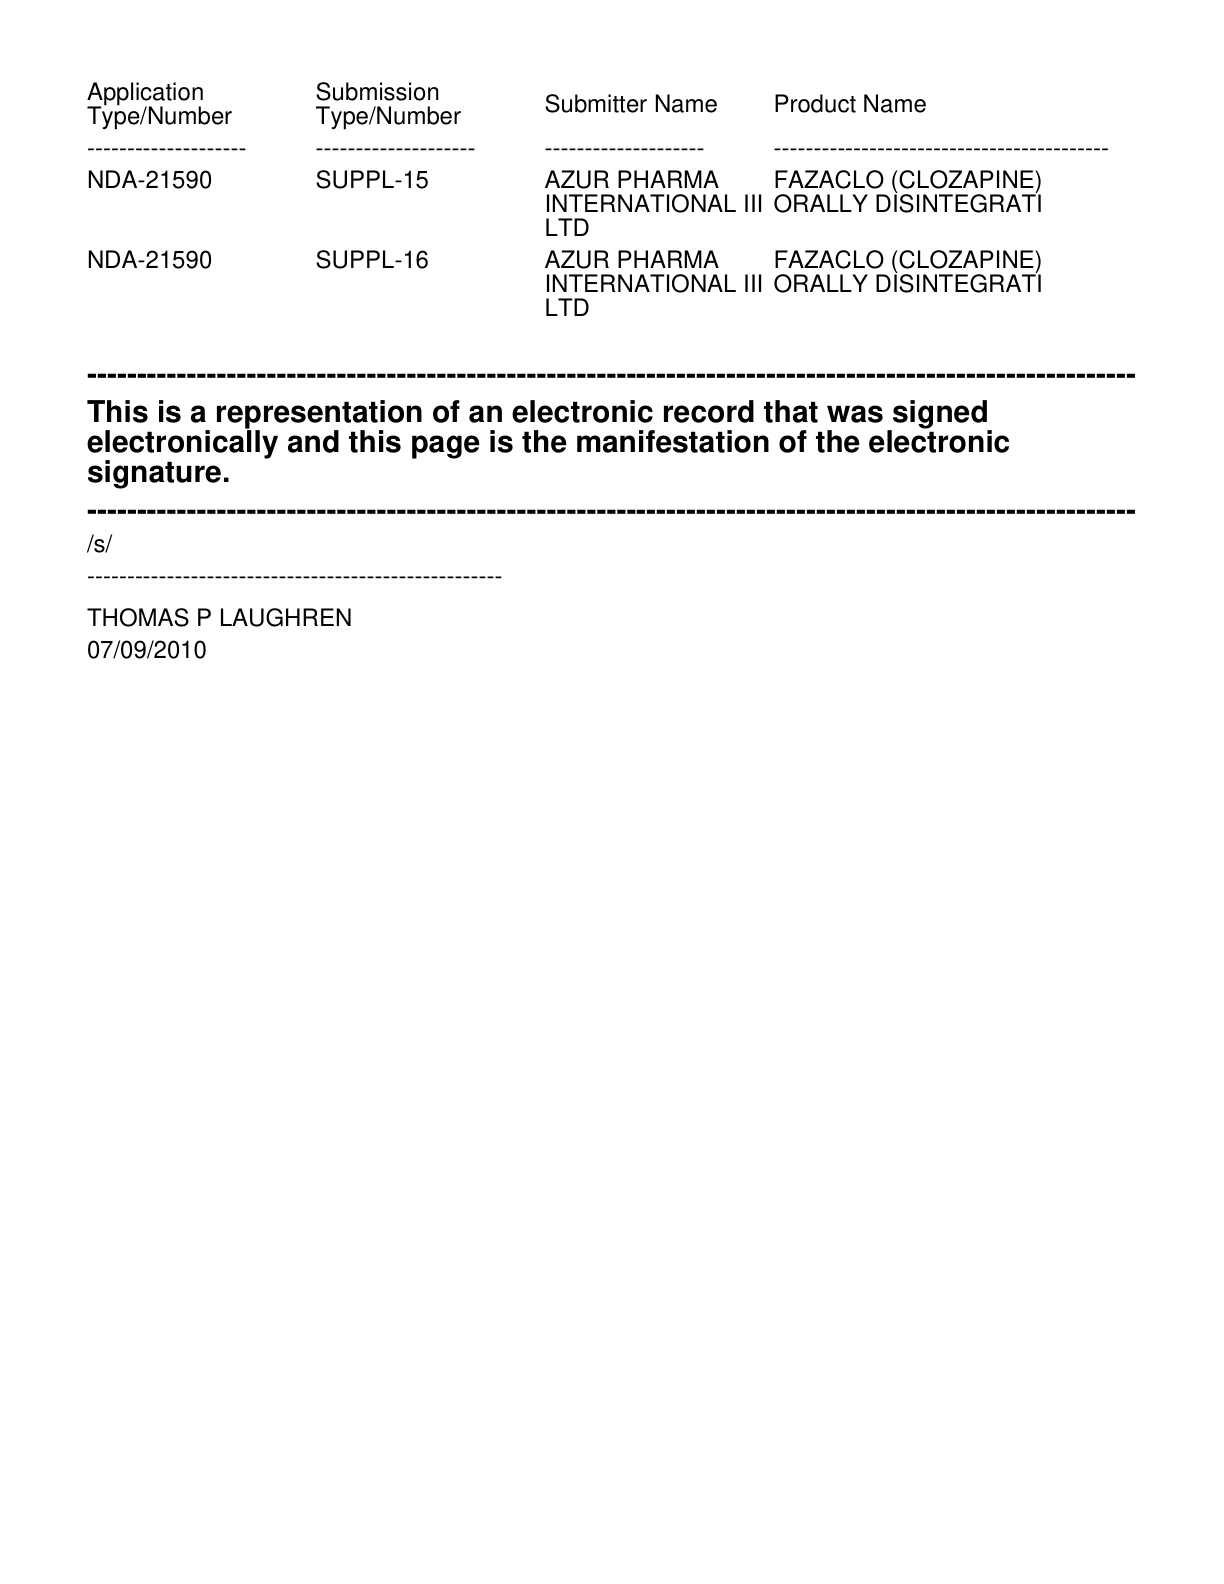nolines: (84, 78, 1111, 321)
